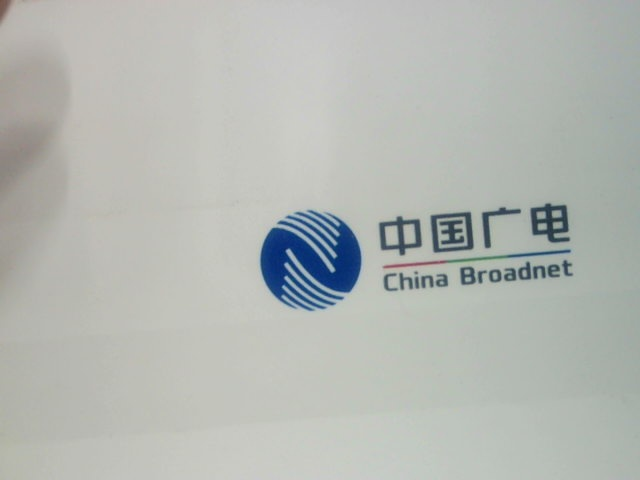AW_ChinaBroadNet: (249, 200, 579, 311)
